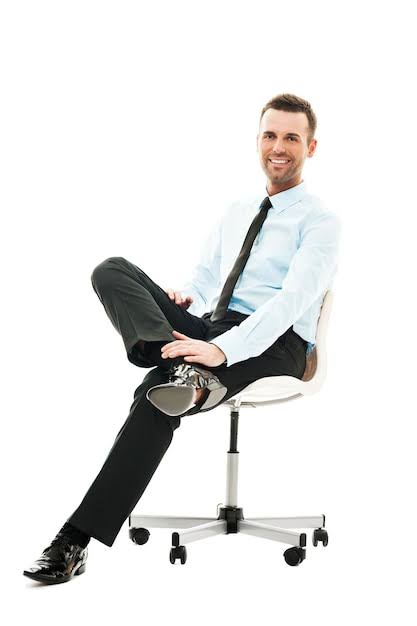Focused: (244, 74, 346, 250)
